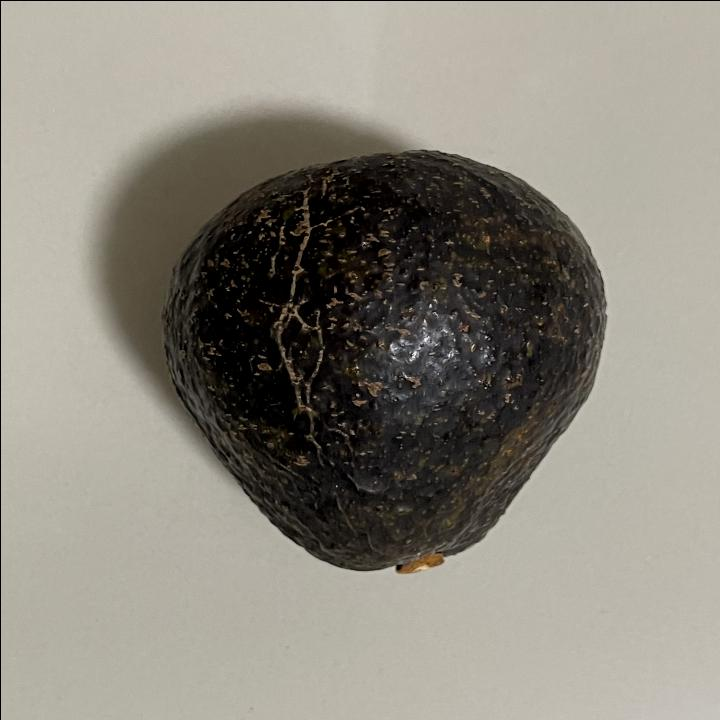Level2: (153, 143, 617, 582)
